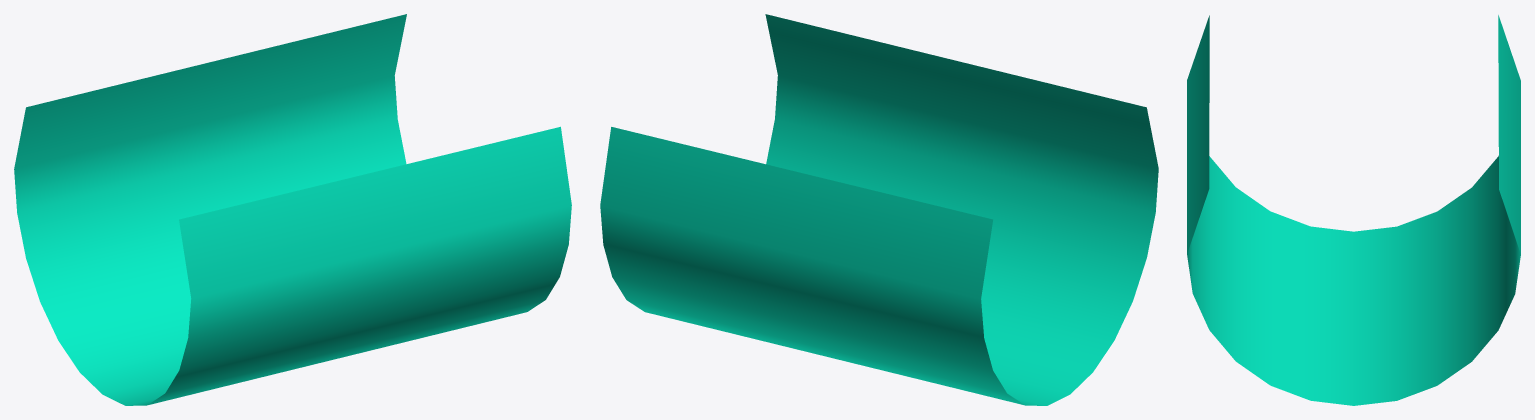
File: Pipe_Collider_Straight.fbx
3 views of the same model, side by side, from view 1: azimuth 30°, elevation 25°; view 2: azimuth 150°, elevation 25°; view 3: azimuth 270°, elevation 25° (orthographic). The views are drawn at different scales.
Parts seen in each view (by area): view 1: Pipe_Collider_Straight; view 2: Pipe_Collider_Straight; view 3: Pipe_Collider_Straight.
Boxes of the visible parts, x1,y1,x2,y2 form: Pipe_Collider_Straight: [14, 14, 571, 405]; Pipe_Collider_Straight: [600, 14, 1158, 405]; Pipe_Collider_Straight: [1187, 15, 1520, 405].
Size of the model in its own units: 4.22 by 2.44 by 3.4.
